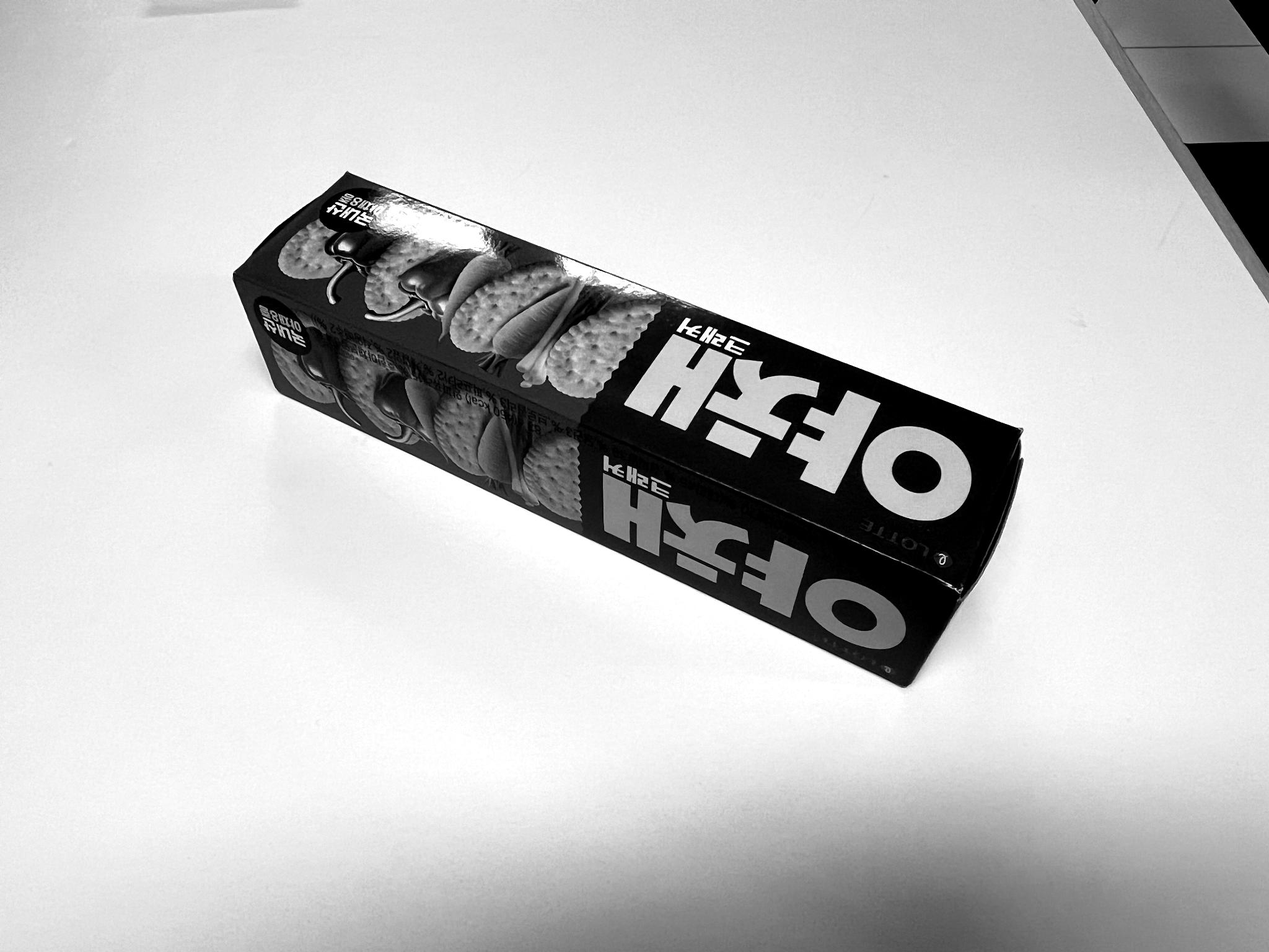cracker_vege: (238, 168, 1023, 696)
